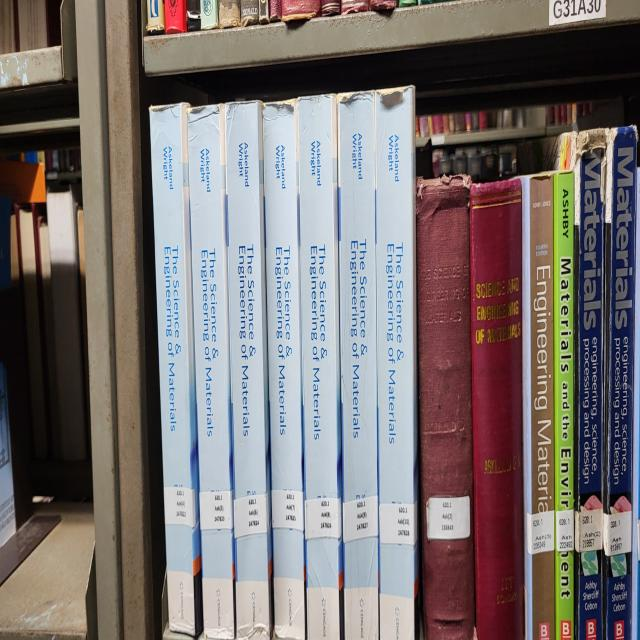Book: (150, 103, 202, 636), (416, 176, 475, 639), (225, 100, 272, 639), (188, 106, 235, 639), (470, 179, 524, 639), (375, 87, 419, 639), (298, 95, 342, 639), (262, 100, 305, 639), (338, 92, 379, 639), (602, 124, 638, 639), (574, 130, 606, 639), (521, 173, 555, 639), (554, 170, 575, 639)
Label: (426, 495, 470, 538), (342, 495, 378, 544), (234, 492, 269, 538), (379, 503, 418, 544), (305, 498, 341, 538), (200, 490, 234, 530), (602, 511, 631, 557), (271, 490, 304, 530), (164, 487, 196, 528), (528, 511, 555, 555), (578, 509, 602, 552), (555, 509, 574, 552)
